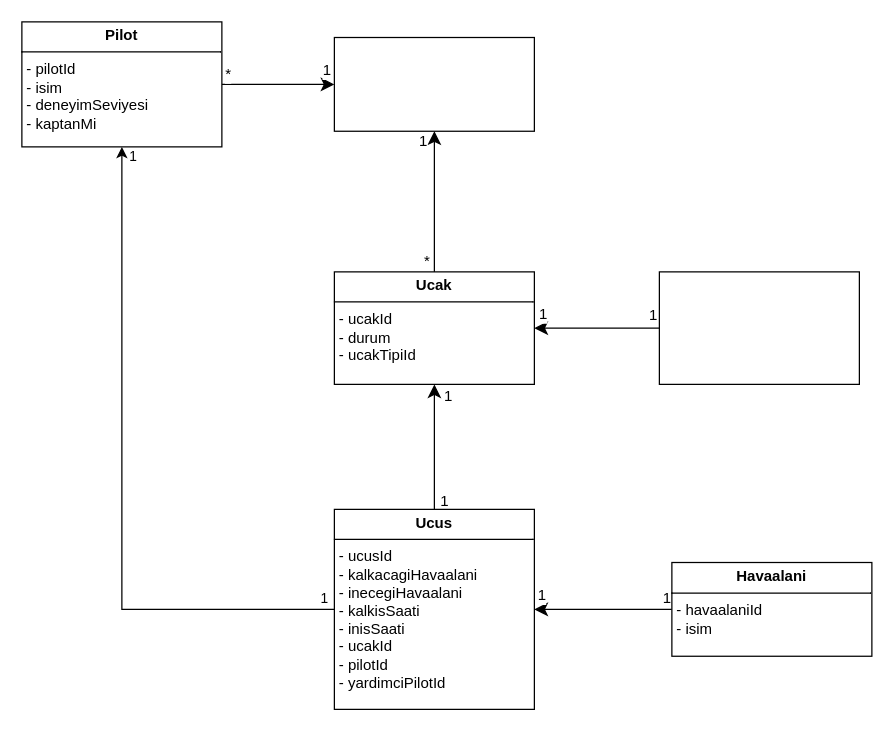
Image size: 894x731. Some labels were removed from this diagram. The shapes that lost their labels are listed below. From the top down, each one's centre as x and y in pixels, then its label:
At pixel 433 83: "HavaYoluSirketi - havaYoluId - isim".
At pixel 758 327: "UcakTipi - ucakTipiId - isim - gerekliPilotSayisi".
